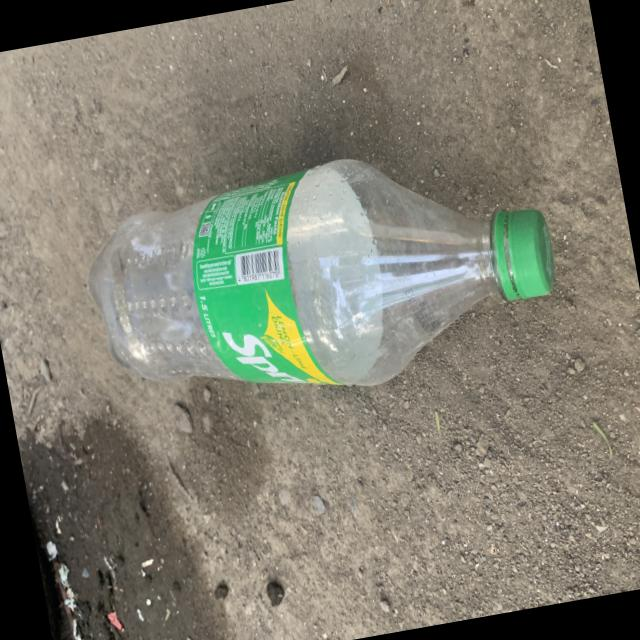Bottle: (87, 160, 552, 385)
